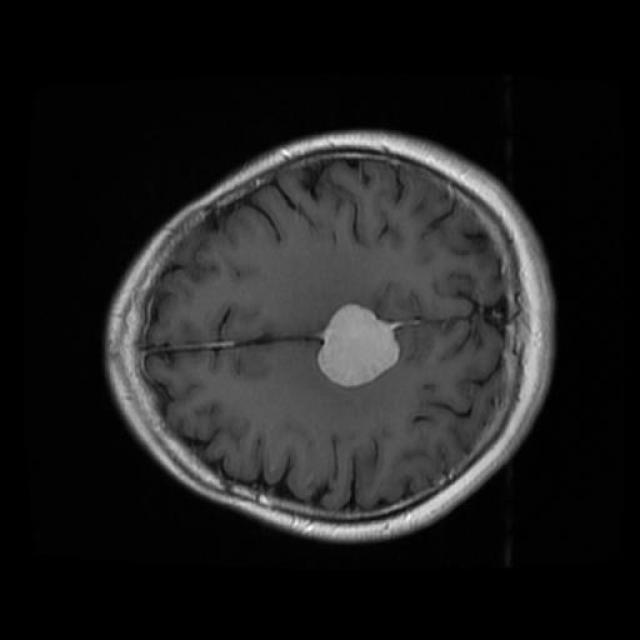Meningioma: (317, 304, 400, 386)
